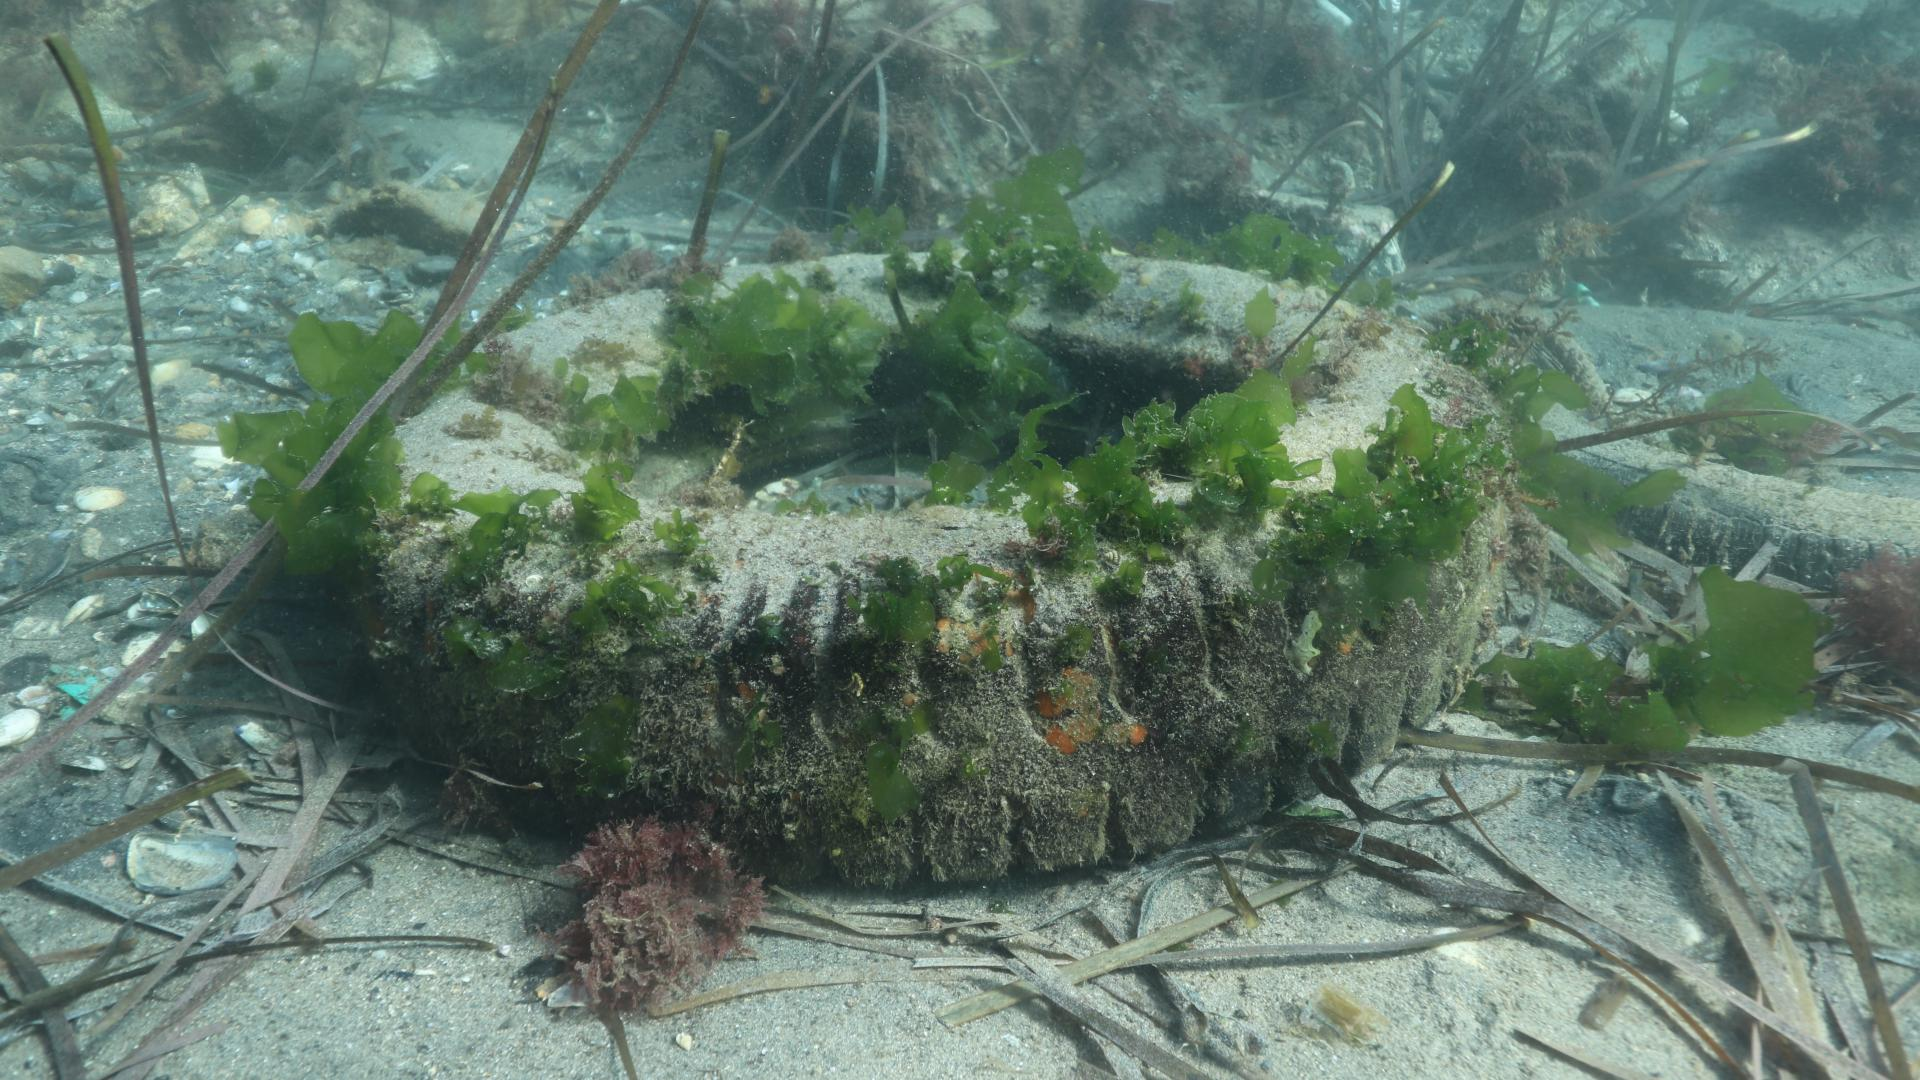rope: (1428, 298, 1614, 415)
tire: (352, 252, 1513, 903)
